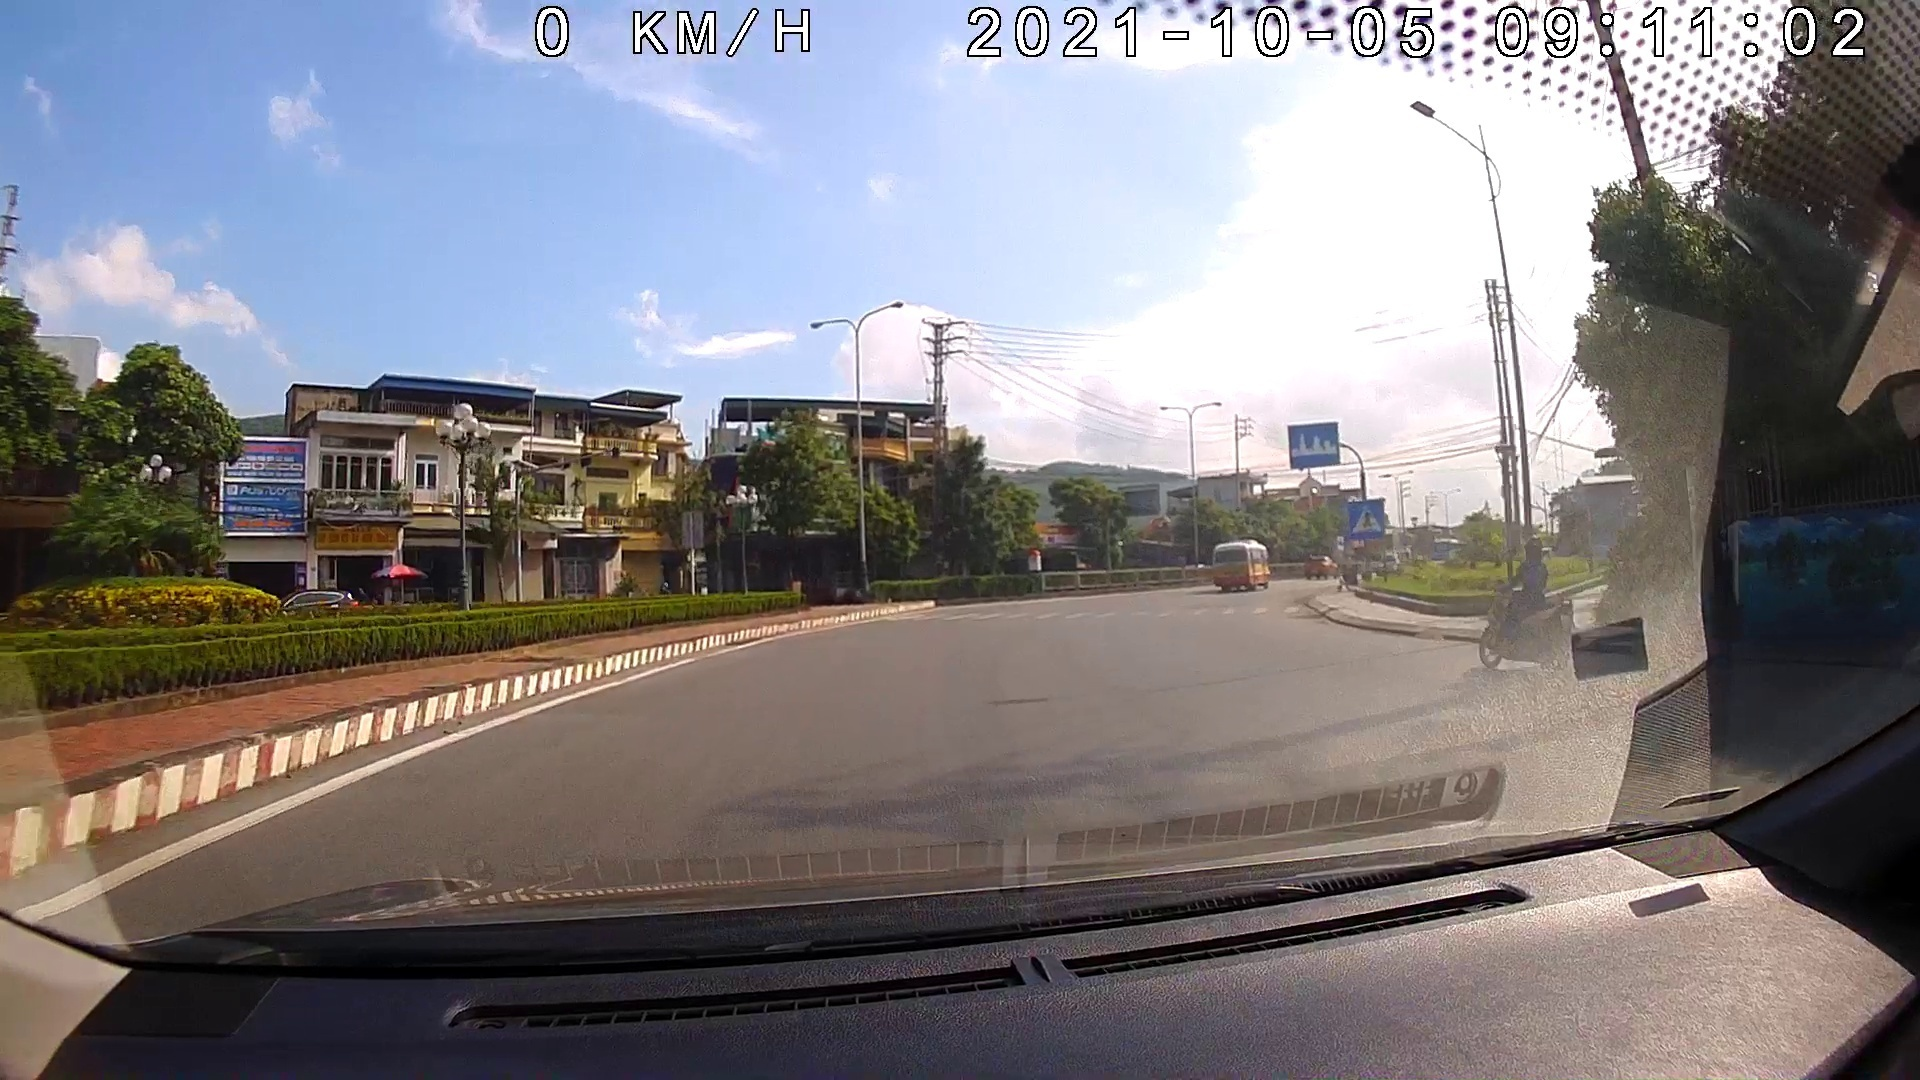Bien khac: (1284, 419, 1341, 467)
Nguoi di bo: (1344, 498, 1389, 538)
